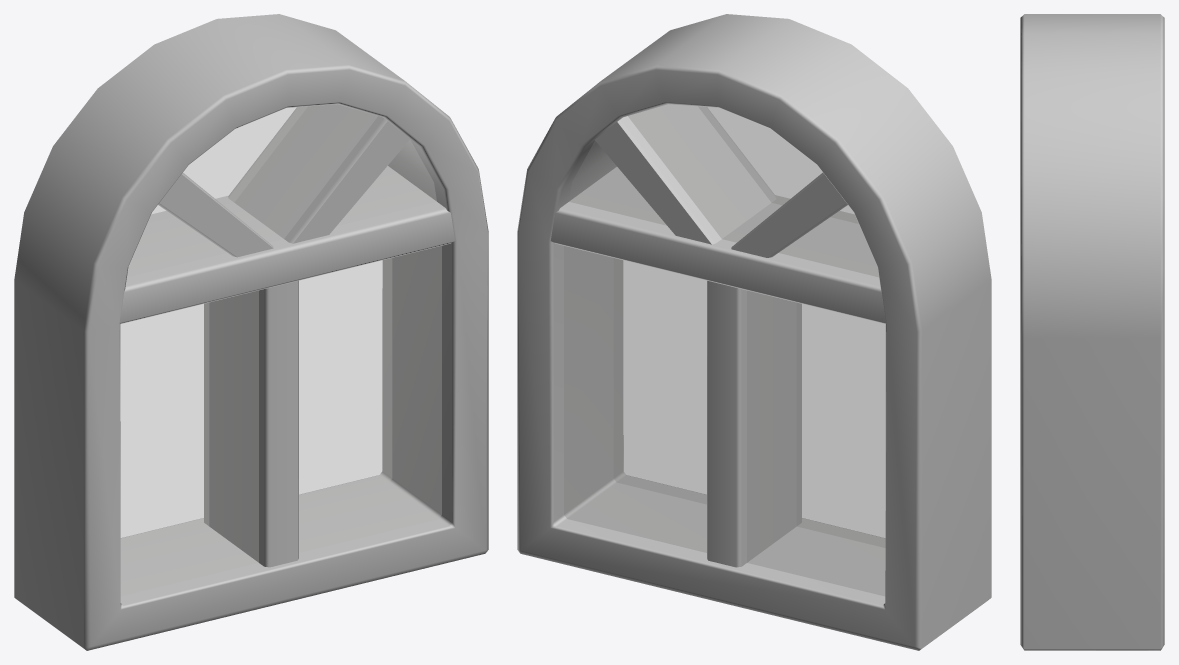
File: Window_37.fbx
The picture shows the model from 3 angles, left to right: view 1: azimuth 30°, elevation 25°; view 2: azimuth 150°, elevation 25°; view 3: azimuth 270°, elevation 25°; orthographic projection. The views are drawn at different scales.
Parts seen in each view (by area): view 1: Window_37; view 2: Window_37; view 3: Window_37.
Boxes of the visible parts, box(x1,y1,x2,y2) form: Window_37: box(14, 14, 488, 650); Window_37: box(517, 14, 991, 650); Window_37: box(1020, 14, 1164, 650).
Bounding box in the file's own units: 151 × 190 × 47.47.
